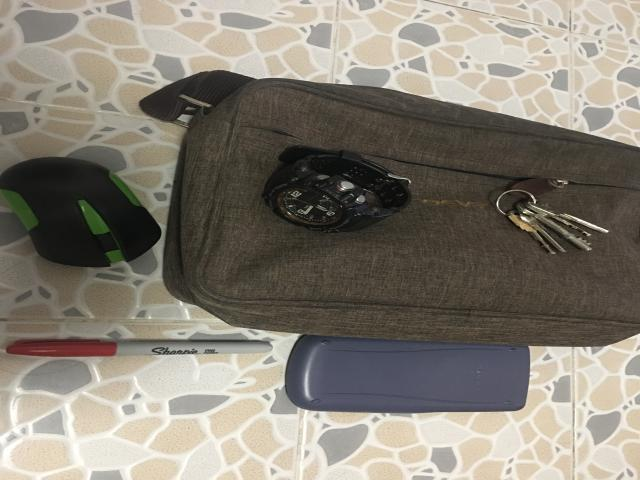Keys: (493, 188, 608, 253)
Mouse: (0, 158, 160, 267)
Pen: (7, 339, 272, 356)
Watch: (263, 146, 412, 232)
